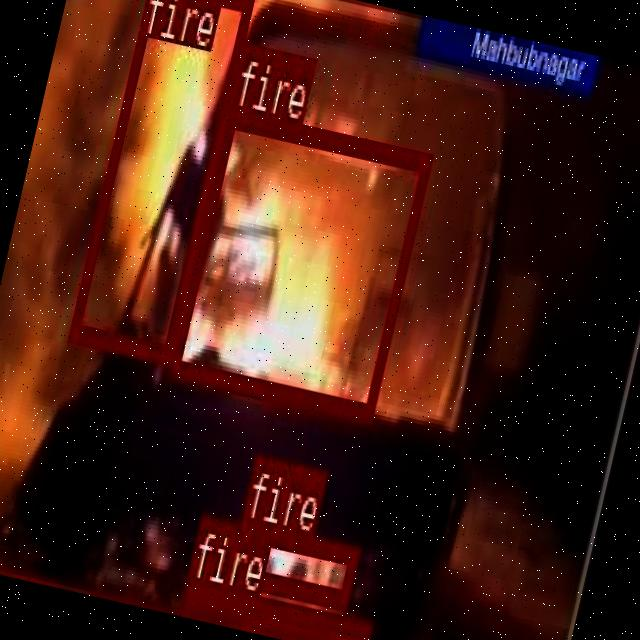fire: (166, 103, 432, 421), (67, 0, 253, 360), (179, 578, 370, 640), (226, 518, 358, 606)
